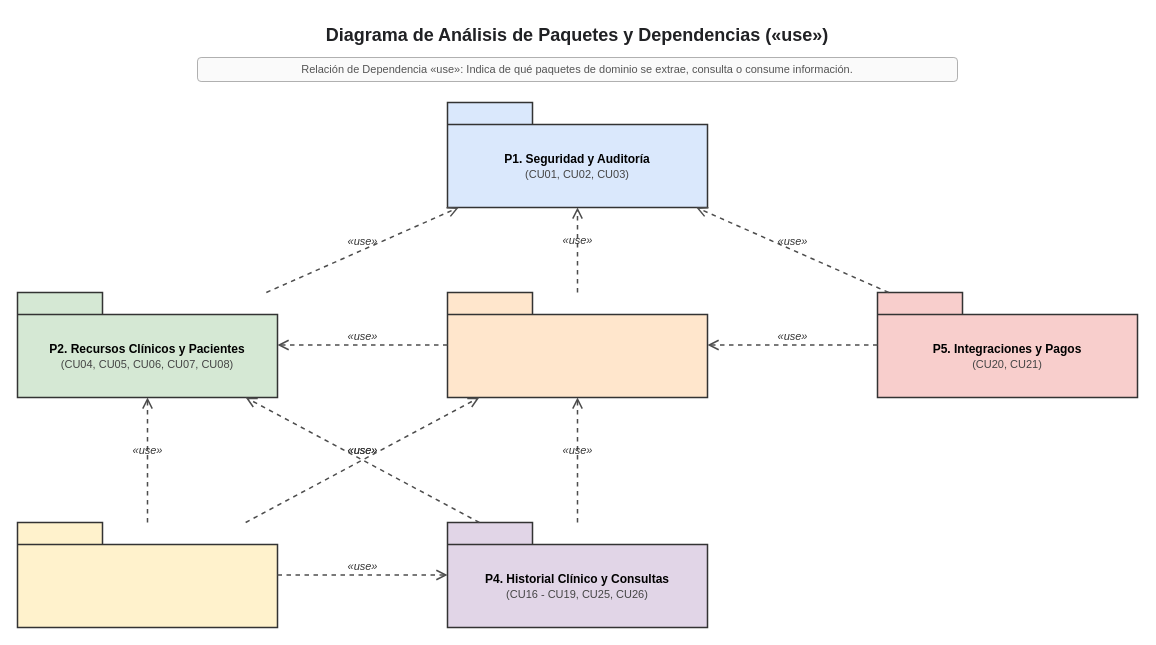
This 1156x645 diagram has some shape labels left out. The shapes that lost their labels are listed below. From the top down, each one's centre as x and y in pixels, then its label:
the point at 577,344: P3. Gestión de Citas Médicas (CU09 - CU15)
the point at 147,574: P6. Reportes y Analítica (CU22, CU23, CU24)
